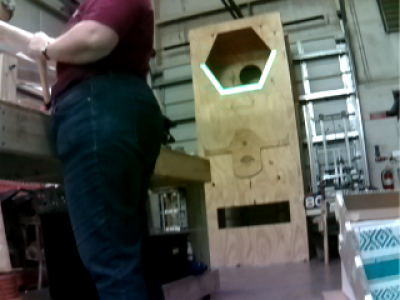target: (199, 50, 277, 95)
